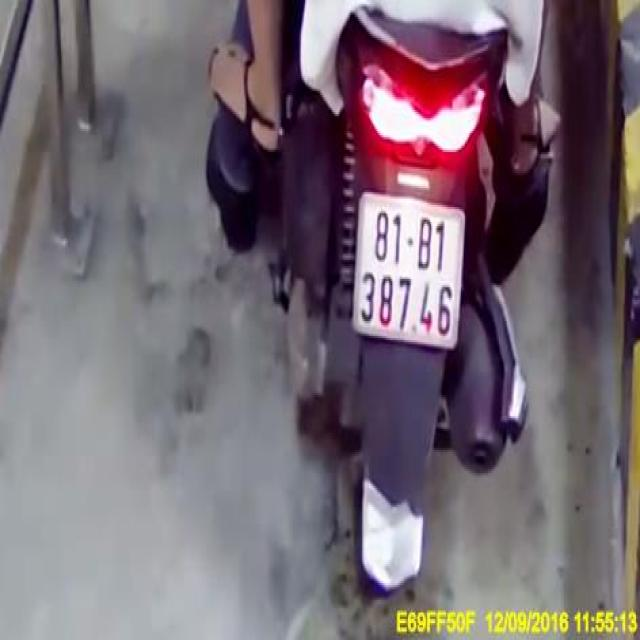1: (434, 213, 447, 274), (391, 211, 404, 266)
3: (360, 266, 376, 328)
4: (419, 280, 435, 335)
6: (436, 280, 454, 335)
7: (398, 271, 412, 329)
8: (379, 271, 394, 329), (374, 208, 390, 261)
B: (417, 208, 433, 277)
